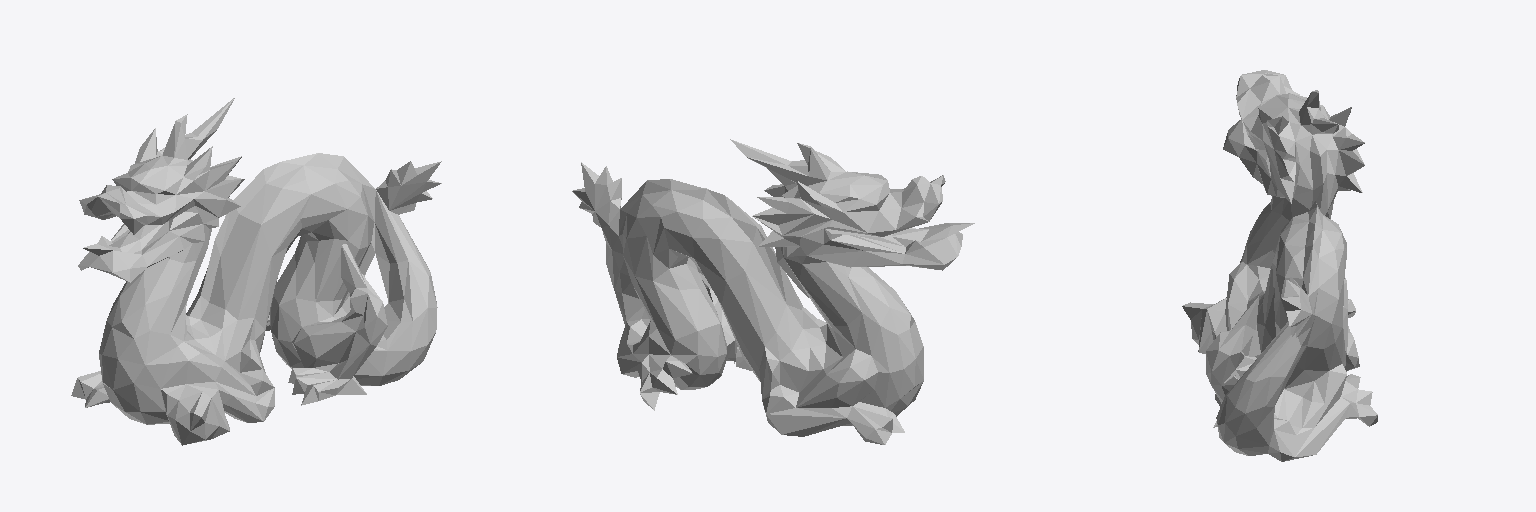
The model's file is dragon_high.OBJ.
3 renders of one model, left to right at view 1: azimuth 30°, elevation 25°; view 2: azimuth 150°, elevation 25°; view 3: azimuth 270°, elevation 25°, orthographic.
Visible parts, largest first — view 1: Group60398; view 2: Group60398; view 3: Group60398.
Boxes of the visible parts, x1=… form: Group60398: x1=71, y1=98, x2=441, y2=445; Group60398: x1=572, y1=139, x2=974, y2=444; Group60398: x1=1182, y1=70, x2=1377, y2=461.
Bounding box in the file's own units: 2.91 × 2.03 × 1.3.